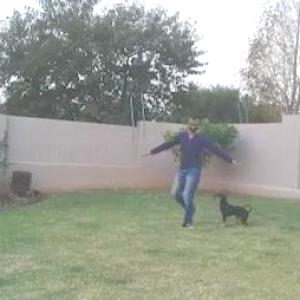land: (160, 112, 246, 215)
